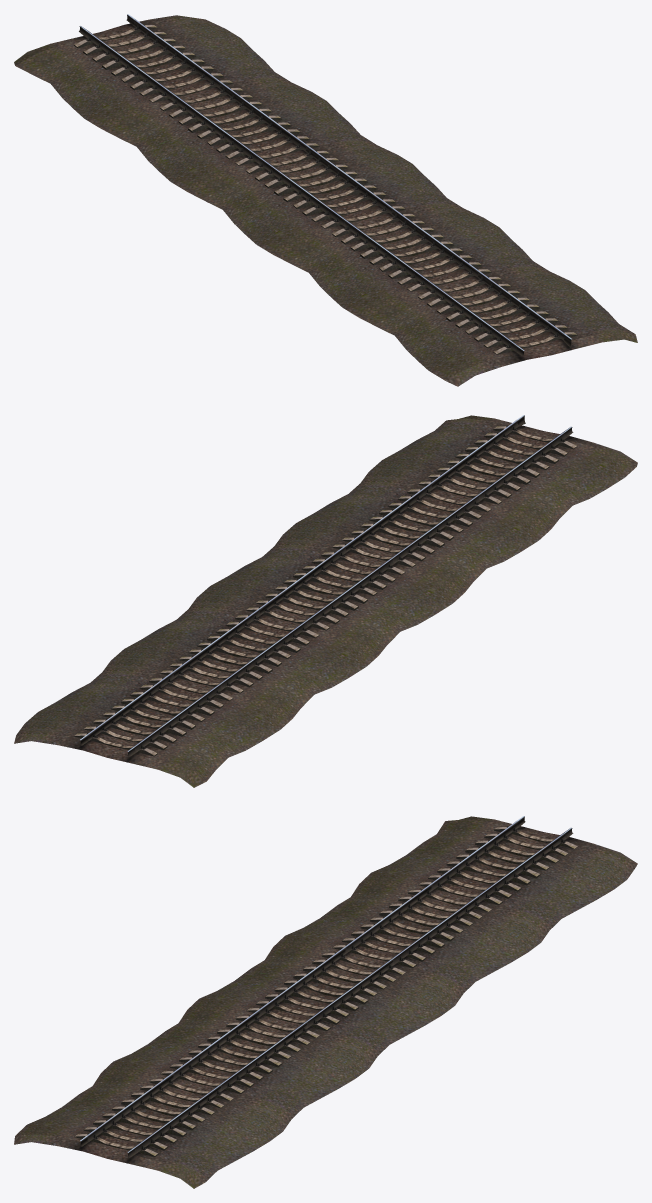
The model's file is 1track_25_TSM.gltf.
The picture shows the model from 3 angles, top to bottom: view 1: azimuth 30°, elevation 25°; view 2: azimuth 150°, elevation 25°; view 3: azimuth 330°, elevation 25°; orthographic projection.
Bounding box in the file's own units: 6.7 × 0.6438 × 25.8.
1 material, 1 textured.
